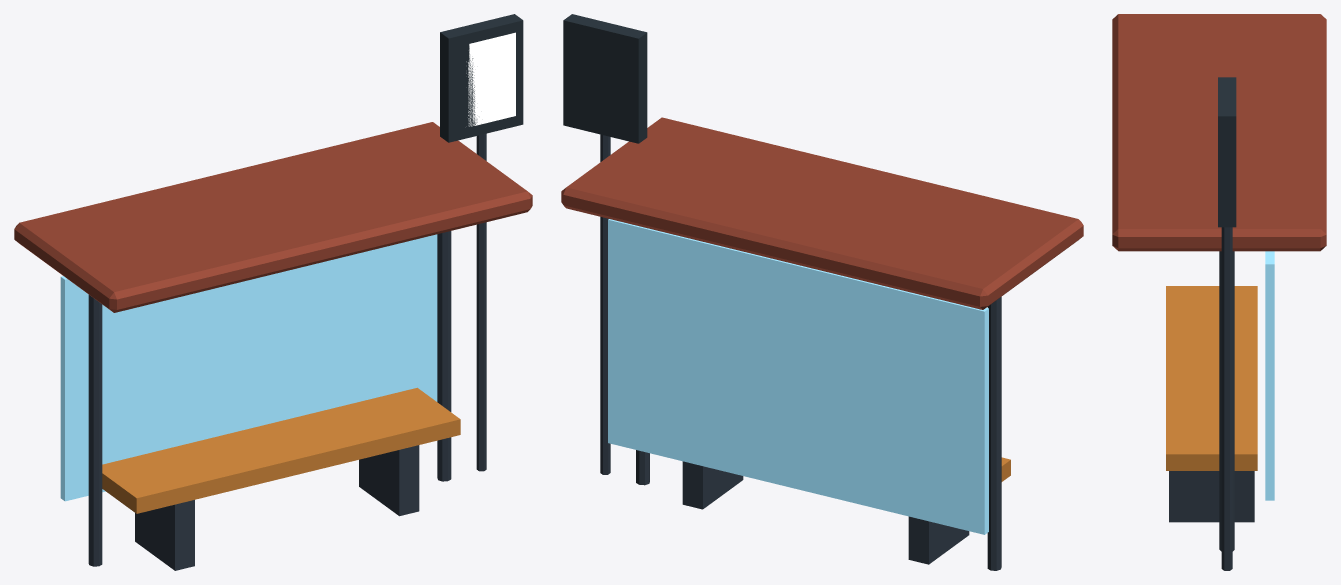
Rendered from hd_busstop.gltf.
3 views of the same model, side by side, from view 1: azimuth 30°, elevation 25°; view 2: azimuth 150°, elevation 25°; view 3: azimuth 270°, elevation 25° (orthographic). The views are drawn at different scales.
Visible parts, largest first — view 1: glass, roof, seat, sign, post-1.4, signface, bleg0.9, post1.4, bleg-0.9, signpole; view 2: glass, roof, sign, post-1.4, signpole, bleg0.9, bleg-0.9; view 3: roof, seat, signpole, bleg0.9, sign, glass, post1.4.
Boxes of the visible parts, x1,y1,x2,y2 form: glass: [60, 234, 437, 501]; roof: [14, 122, 532, 312]; seat: [102, 387, 460, 513]; sign: [440, 14, 523, 142]; post-1.4: [88, 295, 102, 566]; signface: [466, 32, 515, 126]; bleg0.9: [359, 445, 419, 516]; post1.4: [437, 231, 451, 481]; bleg-0.9: [135, 500, 194, 570]; signpole: [476, 133, 486, 471]; glass: [608, 219, 988, 534]; roof: [561, 117, 1083, 309]; sign: [563, 14, 647, 143]; post-1.4: [987, 297, 1001, 570]; signpole: [600, 134, 610, 474]; bleg0.9: [682, 461, 743, 509]; bleg-0.9: [908, 516, 969, 564]; roof: [1112, 14, 1326, 251]; seat: [1166, 286, 1257, 470]; signpole: [1221, 227, 1232, 570]; bleg0.9: [1169, 471, 1254, 522]; sign: [1218, 77, 1236, 227]; glass: [1265, 251, 1274, 500]; post1.4: [1219, 251, 1234, 551].
Size of the model in its own units: 3.7 by 3.4 by 1.4.
